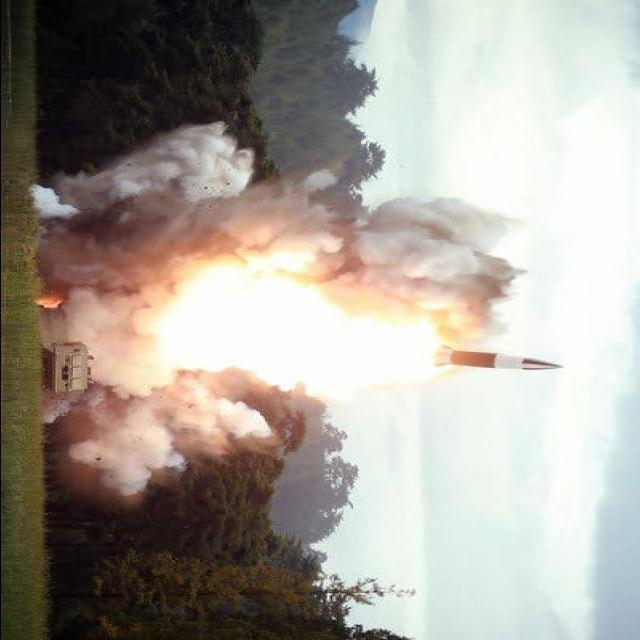missile: (430, 344, 561, 380)
